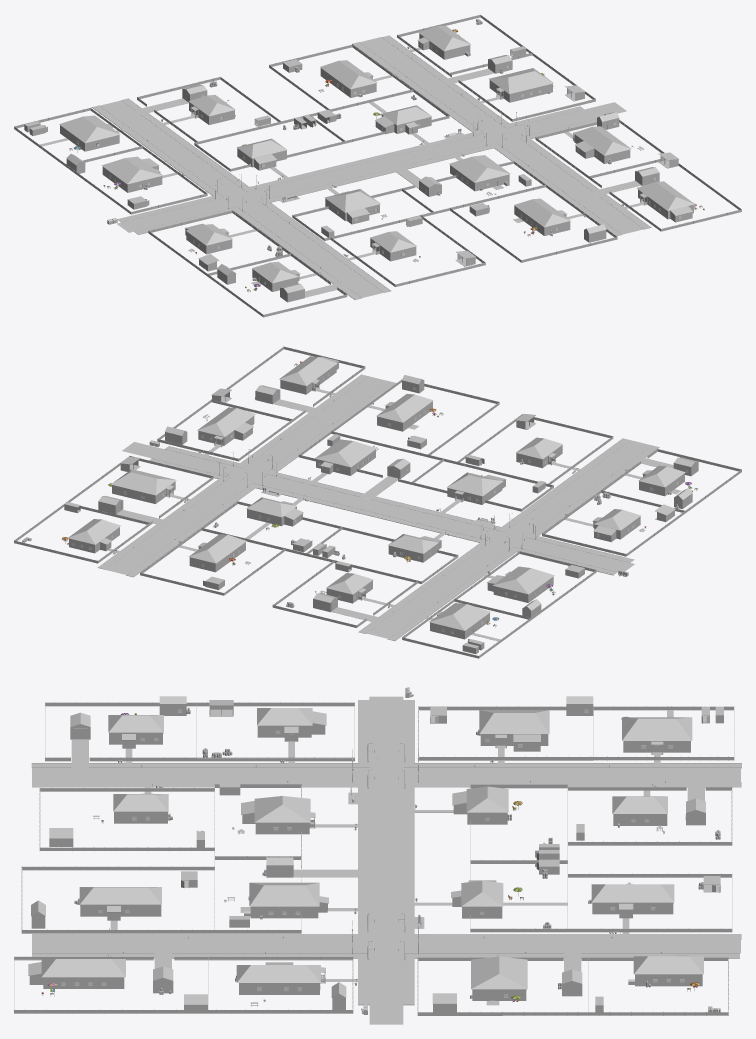
Rendered from PuebloCarapuzo.fbx.
3 renders of one model, top to bottom at view 1: azimuth 30°, elevation 25°; view 2: azimuth 150°, elevation 25°; view 3: azimuth 270°, elevation 25°, orthographic. The views are drawn at different scales.
Visible parts, largest first — view 1: Plane.001, Tropka.006, Tropka.028, Tropka.018, Tropka.012, Roof.029, Roof, Roof.008, Roof.020, Zabor.042, Roof.018, Roof.004 (+30 smaller); view 2: Plane.001, Tropka.006, Tropka.028, Tropka.012, Tropka.018, Roof.008, Roof, Roof.029, Roof.020, Zabor.018, Zabor.042, Roof.004 (+28 smaller); view 3: Plane.001, Tropka.028, Tropka.006, Tropka.018, Tropka.012, Zabor.038, Roof.020, Roof, Roof.008, Roof.029, Roof.004, Roof.006 (+38 smaller).
Boxes of the visible parts, x1,y1,x2,y2 form: Plane.001: [100, 37, 643, 297]; Tropka.006: [121, 42, 484, 191]; Tropka.028: [259, 143, 622, 292]; Tropka.018: [91, 35, 584, 222]; Tropka.012: [134, 118, 651, 299]; Roof.029: [101, 156, 162, 184]; Roof: [449, 155, 510, 182]; Roof.008: [59, 115, 120, 143]; Roof.020: [489, 68, 553, 93]; Zabor.042: [148, 210, 290, 275]; Roof.018: [573, 126, 631, 155]; Roof.004: [636, 181, 694, 210]; Plane.001: [105, 376, 651, 638]; Tropka.006: [126, 483, 491, 633]; Tropka.028: [265, 381, 629, 531]; Tropka.012: [164, 374, 659, 562]; Tropka.018: [97, 458, 617, 640]; Roof.008: [429, 603, 490, 630]; Roof: [315, 439, 376, 467]; Roof.029: [493, 566, 554, 594]; Roof.020: [111, 469, 176, 495]; Zabor.018: [454, 551, 596, 619]; Zabor.042: [542, 490, 685, 556]; Roof.004: [279, 356, 337, 385]; Plane.001: [32, 696, 740, 1024]; Tropka.028: [32, 782, 369, 938]; Tropka.006: [403, 782, 741, 939]; Tropka.018: [403, 700, 741, 1005]; Tropka.012: [31, 700, 369, 1005]; Zabor.038: [21, 866, 214, 933]; Roof.020: [471, 956, 527, 989]; Roof: [249, 882, 319, 906]; Roof.008: [622, 717, 692, 740]; Roof.029: [479, 710, 549, 733]; Roof.004: [41, 959, 125, 977]; Roof.006: [591, 884, 674, 902].
Size of the model in its own units: 23317 by 758 by 21573.
